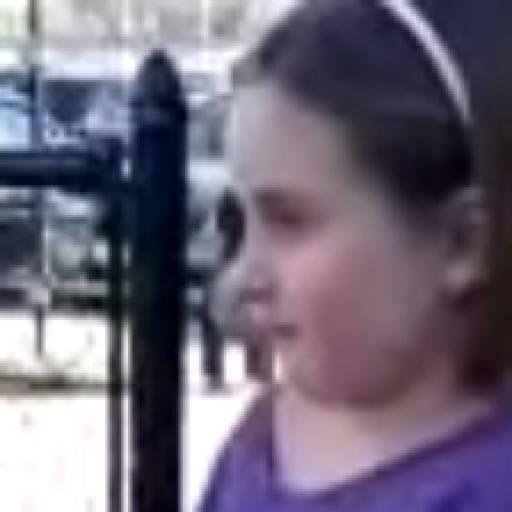Autism: (214, 22, 512, 402)
